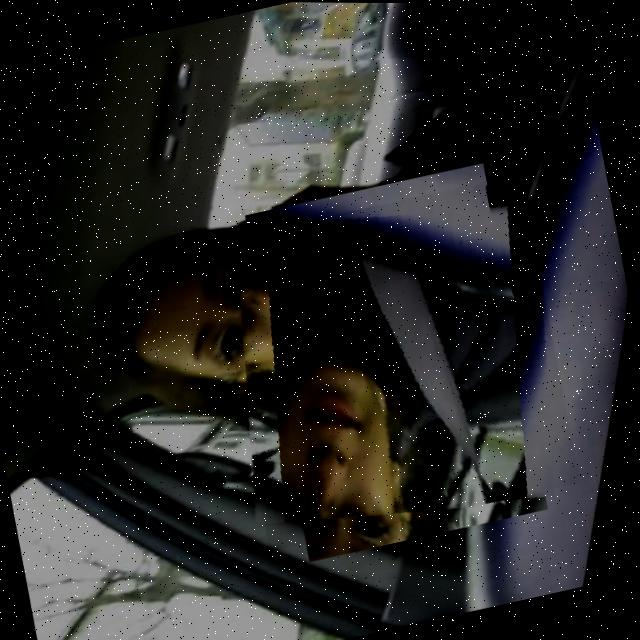seatbelt: (203, 169, 595, 551)
